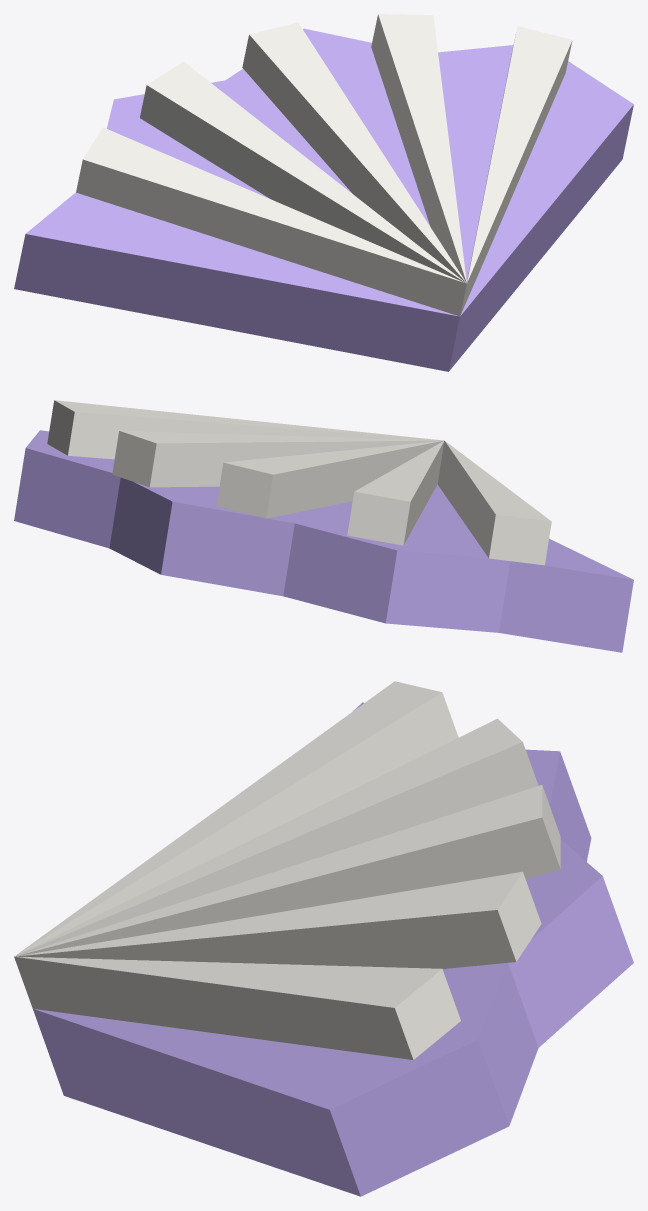
Rendered from deco_seashell.obj.
3 views of the same model, one above another, from view 1: azimuth 30°, elevation 25°; view 2: azimuth 150°, elevation 25°; view 3: azimuth 270°, elevation 25° (orthographic). The views are drawn at different scales.
Visible parts, largest first — view 1: deco_seashell; view 2: deco_seashell; view 3: deco_seashell.
Part boxes in pixels (x1,y1,x2,y2): deco_seashell: [14, 14, 633, 371]; deco_seashell: [14, 400, 633, 652]; deco_seashell: [14, 681, 633, 1196].
Bounding box in the file's own units: 0.0467 × 0.0161 × 0.0307.
Materials: 1 (1 with a texture image).
